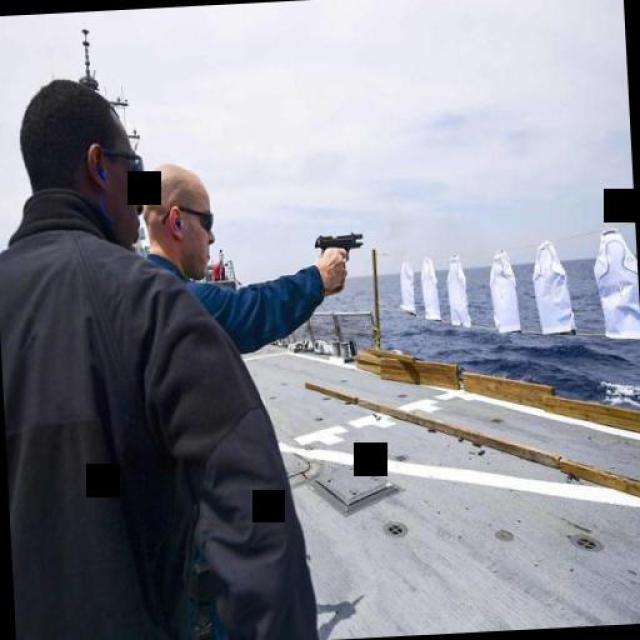gun: (310, 226, 364, 269)
